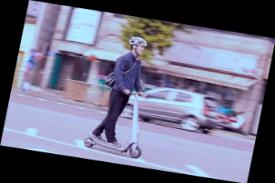helmet: (81, 30, 165, 161)
